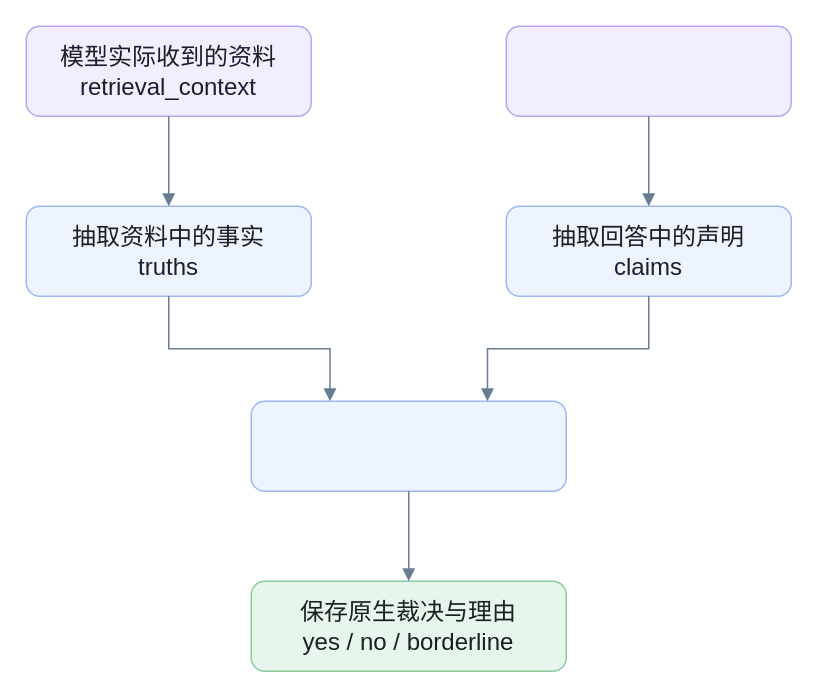
Image size: 818x698. Some labels were removed from this diagram. Each missing label, with the box of its shape:
实际回答 actual_output: (505, 25, 791, 116)
逐声明对照 facts 支持 / 矛盾 / 未支持: (250, 400, 566, 491)
